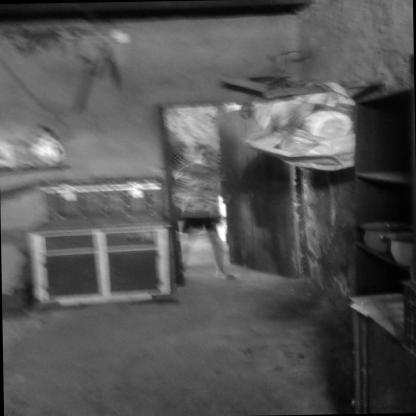semi: (152, 88, 302, 274)
